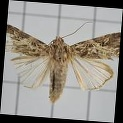Spodoptera litura: (5, 19, 119, 104)
